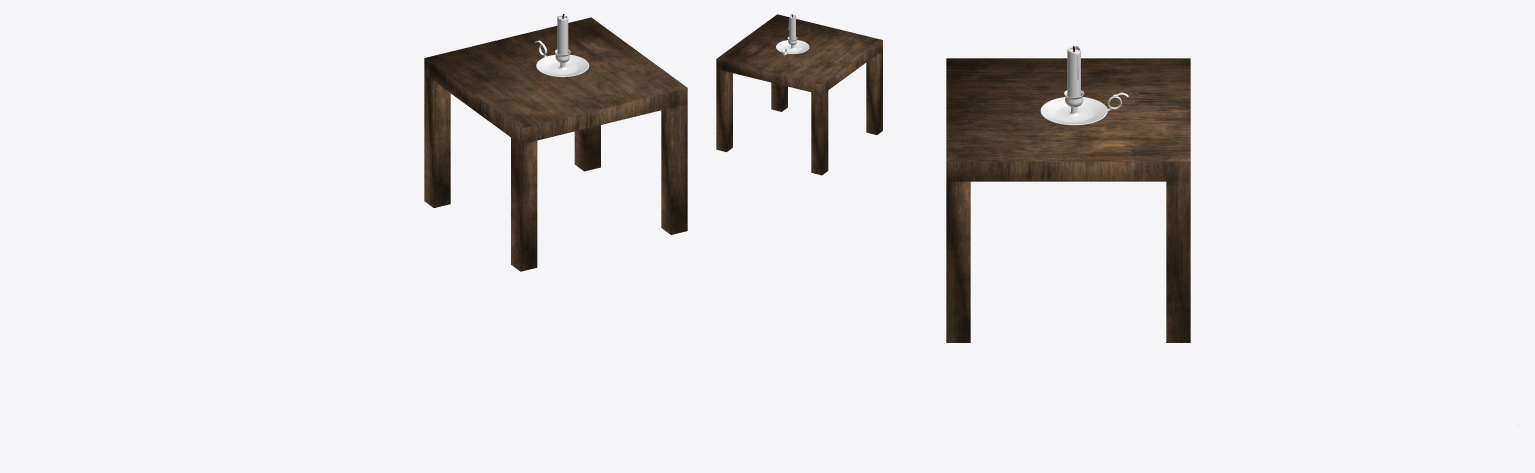
File: Sidetable with candle.glb
The picture shows the model from 3 angles, left to right: view 1: azimuth 30°, elevation 25°; view 2: azimuth 150°, elevation 25°; view 3: azimuth 270°, elevation 25°; orthographic projection. The views are drawn at different scales.
Parts seen in each view (by area): view 1: IKEA Lack Side Table 55x55x45, candle_holder; view 2: IKEA Lack Side Table 55x55x45, candle_holder; view 3: IKEA Lack Side Table 55x55x45, candle_holder, candle.
Part boxes in pixels (x1,y1,x2,y2): IKEA Lack Side Table 55x55x45: (424,17,687,271); candle_holder: (534,40,589,77); IKEA Lack Side Table 55x55x45: (716,14,882,175); candle_holder: (776,36,809,55); IKEA Lack Side Table 55x55x45: (946,58,1190,342); candle_holder: (1040,90,1128,125); candle: (1067,45,1080,97).
Bounding box in the file's own units: 2.66 × 2.74 × 2.34.
Materials: 6 (1 with a texture image).
